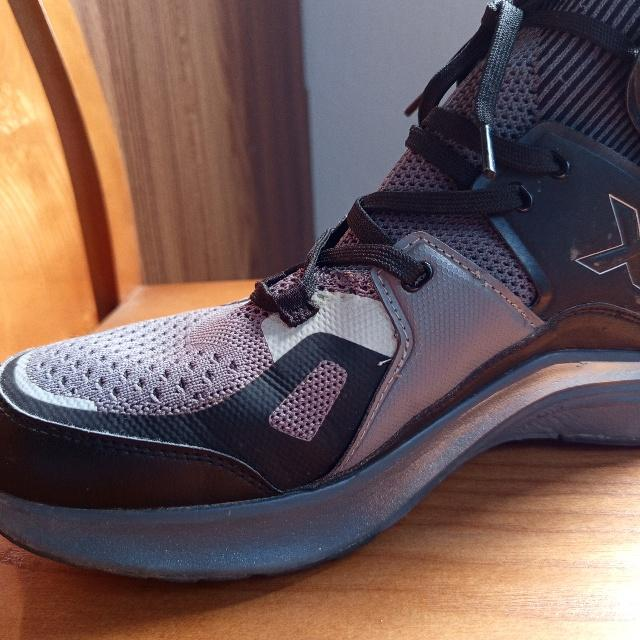broken-error: (473, 269, 488, 288)
